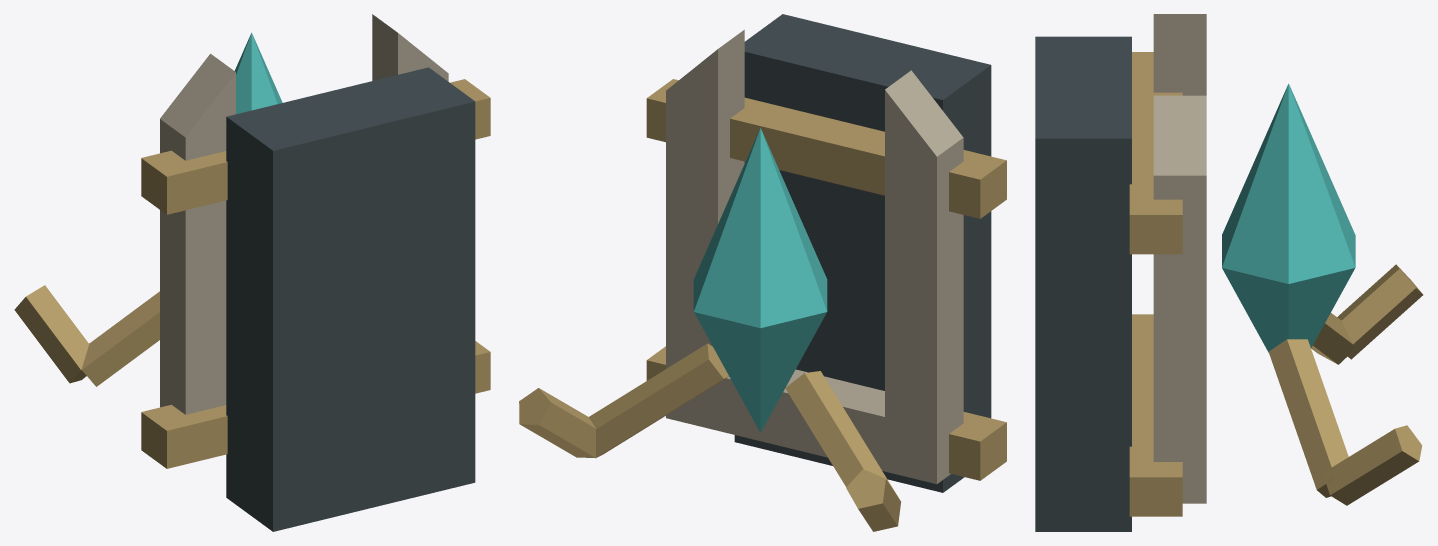
File: Arsenal_MistQuenchEdge.fbx
3 views of the same model, side by side, from view 1: azimuth 30°, elevation 25°; view 2: azimuth 150°, elevation 25°; view 3: azimuth 270°, elevation 25° (orthographic). The views are drawn at different scales.
Visible parts, largest first — view 1: Arsenal_MistQuenchEdge; view 2: Arsenal_MistQuenchEdge; view 3: Arsenal_MistQuenchEdge.
Part boxes in pixels (x1,y1,x2,y2): Arsenal_MistQuenchEdge: (14, 14, 490, 531); Arsenal_MistQuenchEdge: (519, 14, 1006, 531); Arsenal_MistQuenchEdge: (1035, 14, 1423, 531).
Bounding box in the file's own units: 0.1765 × 0.195 × 0.1609.
